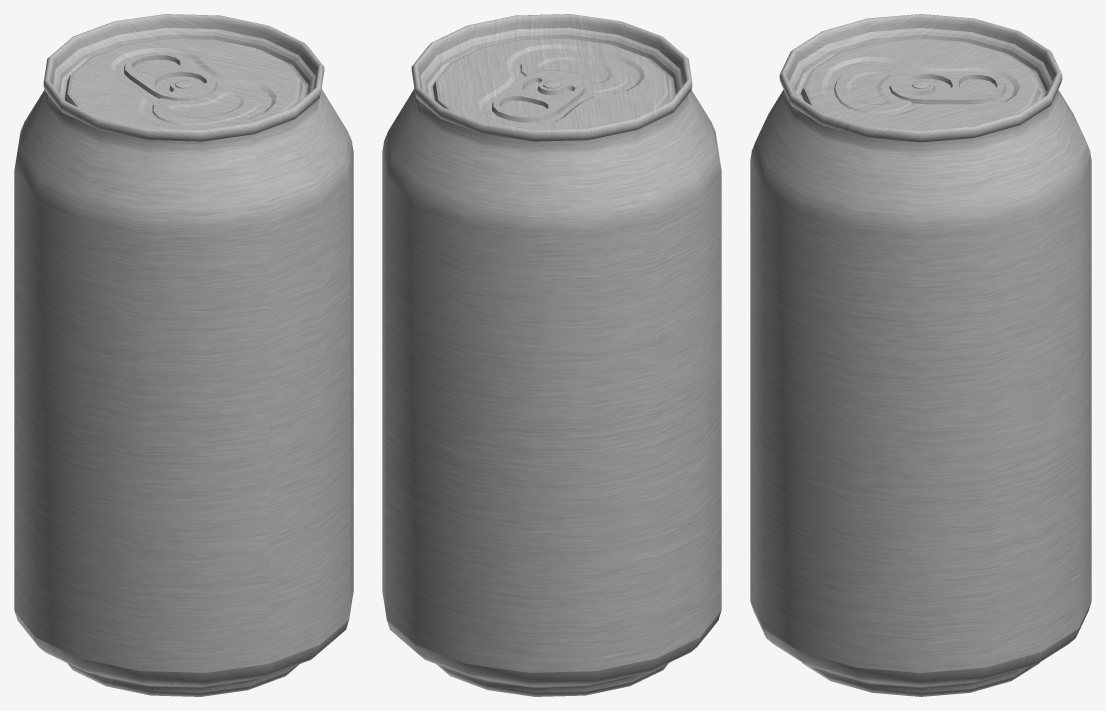
File: soda_can (1).glb
The picture shows the model from 3 angles, left to right: view 1: azimuth 30°, elevation 25°; view 2: azimuth 150°, elevation 25°; view 3: azimuth 270°, elevation 25°; orthographic projection.
Parts seen in each view (by area): view 1: Object_2; view 2: Object_2; view 3: Object_2.
Boxes of the visible parts, x1,y1,x2,y2 form: Object_2: (14, 14, 353, 696); Object_2: (382, 14, 721, 696); Object_2: (750, 14, 1091, 696).
Size of the model in its own units: 1.94 by 3.58 by 1.94.
Materials: 1 (1 with a texture image).
